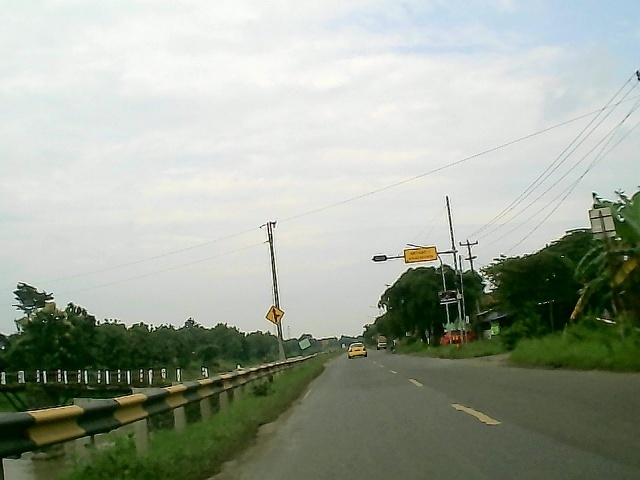Simpang kanan dengan prioritas: (264, 303, 286, 326)
